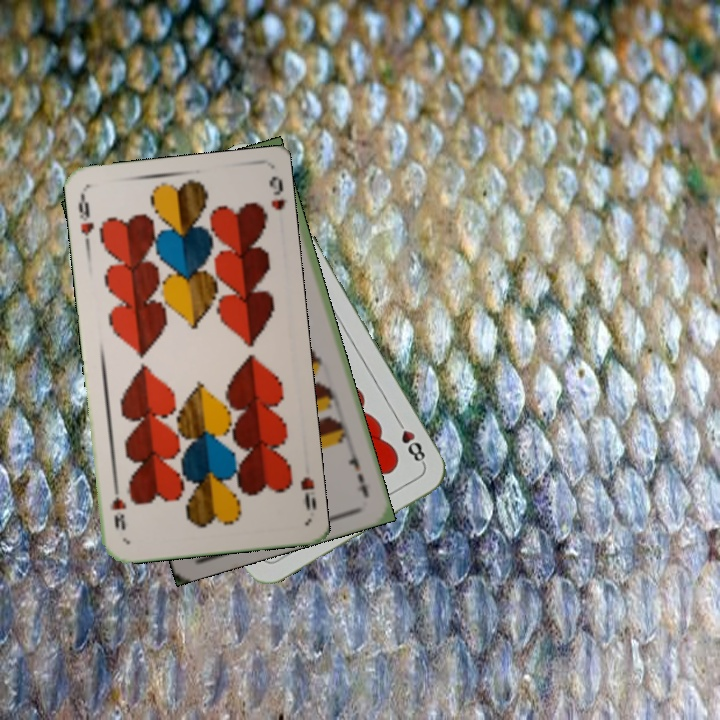E7: (344, 443, 372, 501)
H8: (392, 414, 428, 468)
H9: (74, 191, 97, 250), (297, 473, 319, 514)
